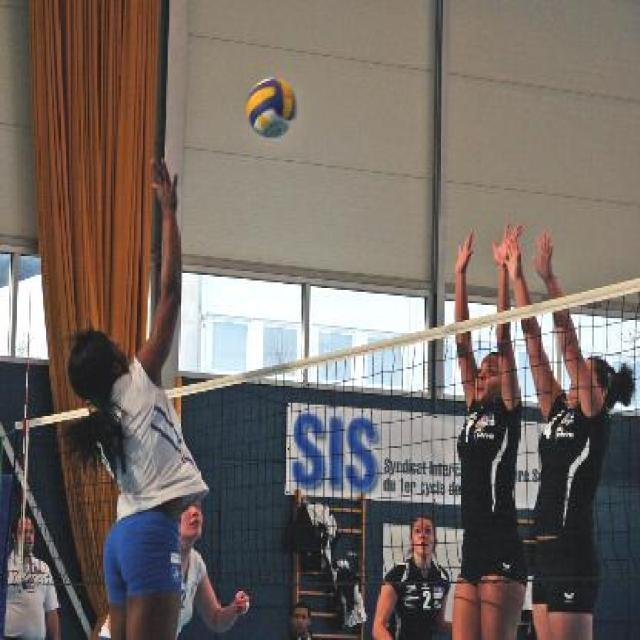volleyball: (246, 77, 296, 136)
